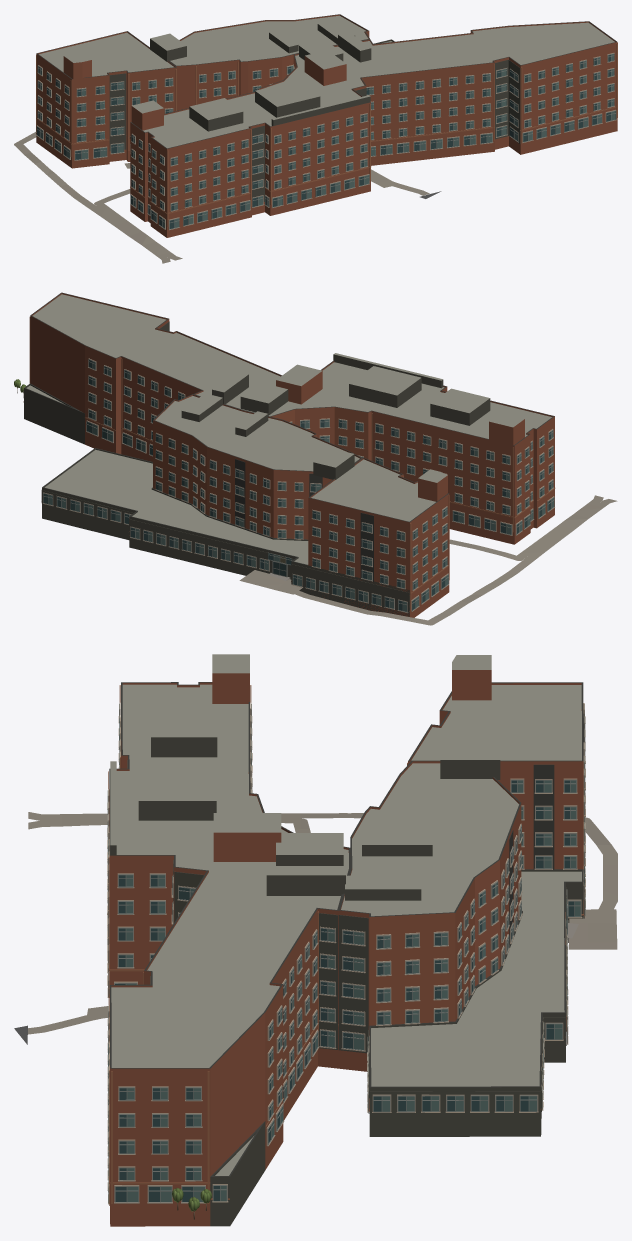
File: site.glb
3 renders of one model, top to bottom at view 1: azimuth 30°, elevation 25°; view 2: azimuth 150°, elevation 25°; view 3: azimuth 270°, elevation 25°, orthographic. The views are drawn at different scales.
Visible parts, largest first — view 1: roof-b36ba733, kalapuya-approaches; view 2: roof-b36ba733, kalapuya-approaches; view 3: roof-b36ba733, kalapuya-approaches.
Part boxes in pixels (<box>): roof-b36ba733: <box>36,14,617,237</box>; kalapuya-approaches: <box>14,132,429,263</box>; roof-b36ba733: <box>23,292,555,617</box>; kalapuya-approaches: <box>239,495,617,625</box>; roof-b36ba733: <box>107,654,585,1226</box>; kalapuya-approaches: <box>28,812,617,1034</box>.
Size of the model in its own units: 106 by 21.51 by 63.14.
